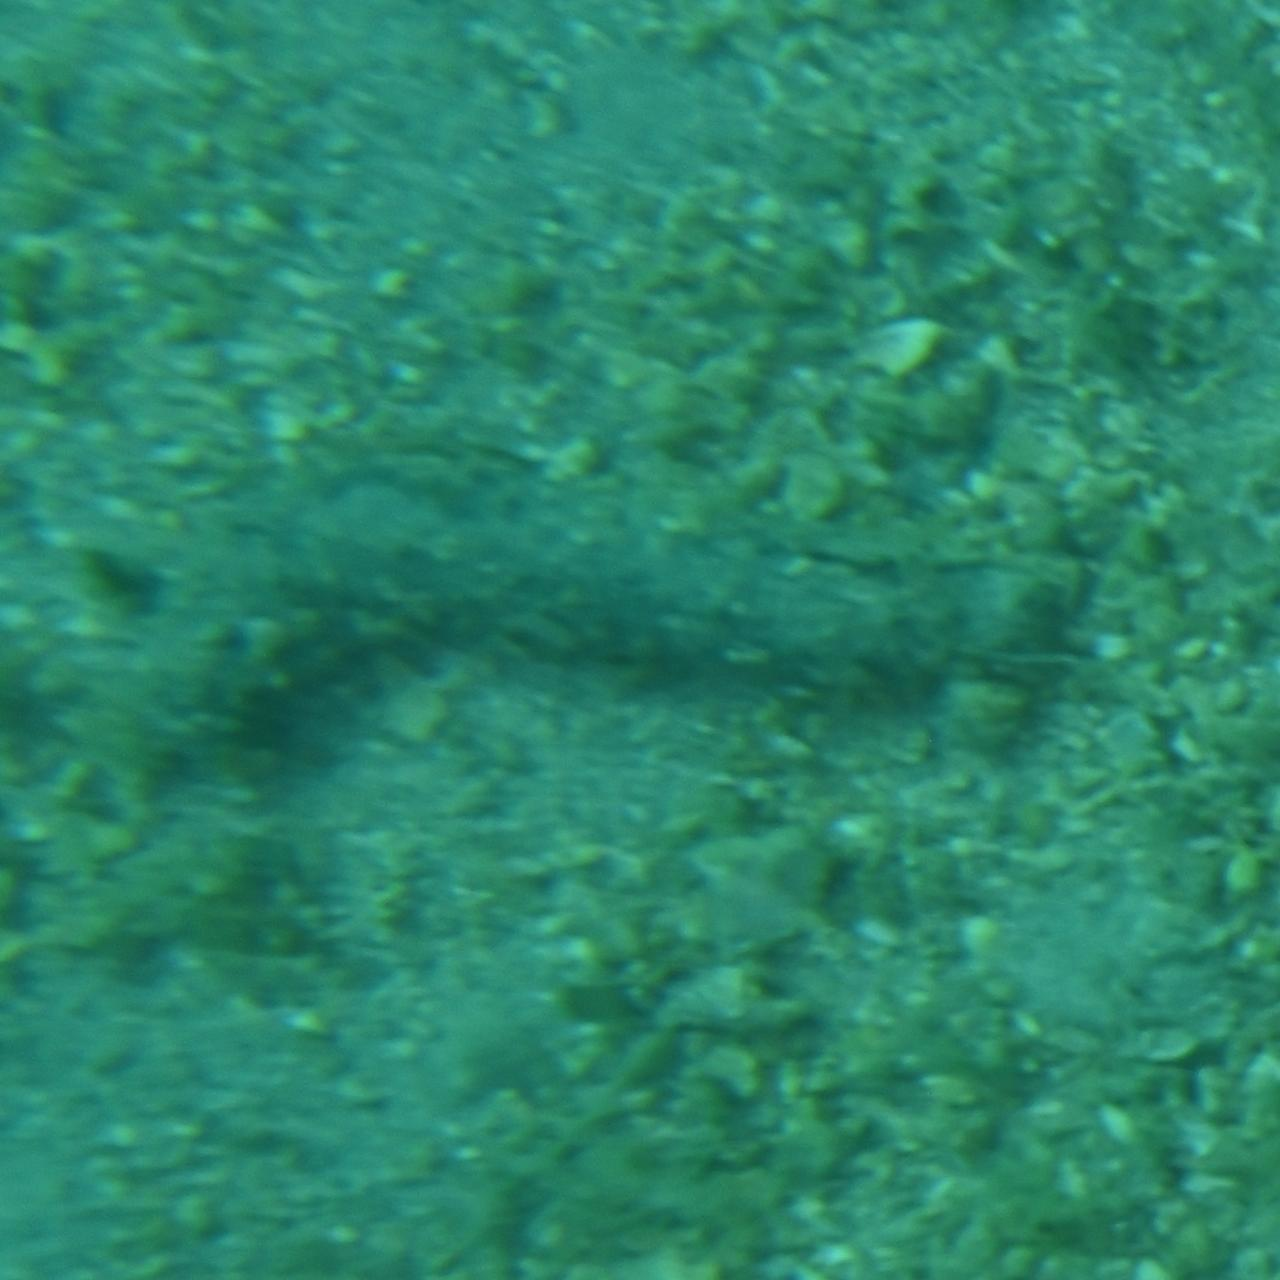Holothuria tubulosa: (109, 505, 1091, 775)
